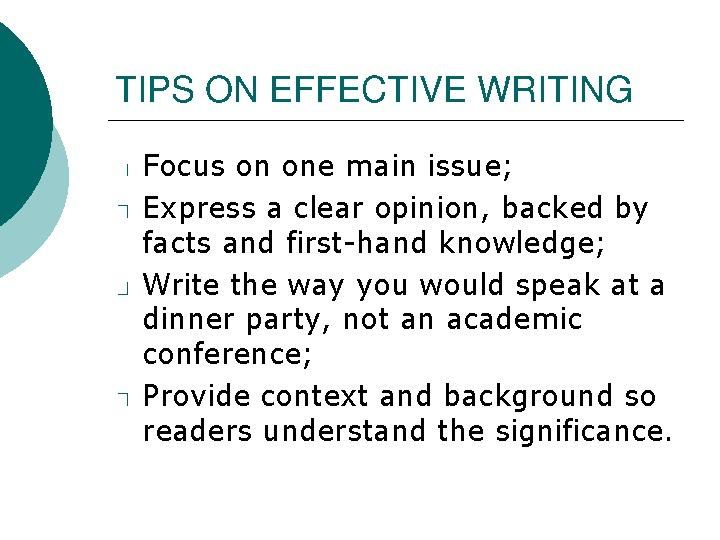paragraph: (111, 141, 706, 473)
title: (92, 46, 661, 135)
